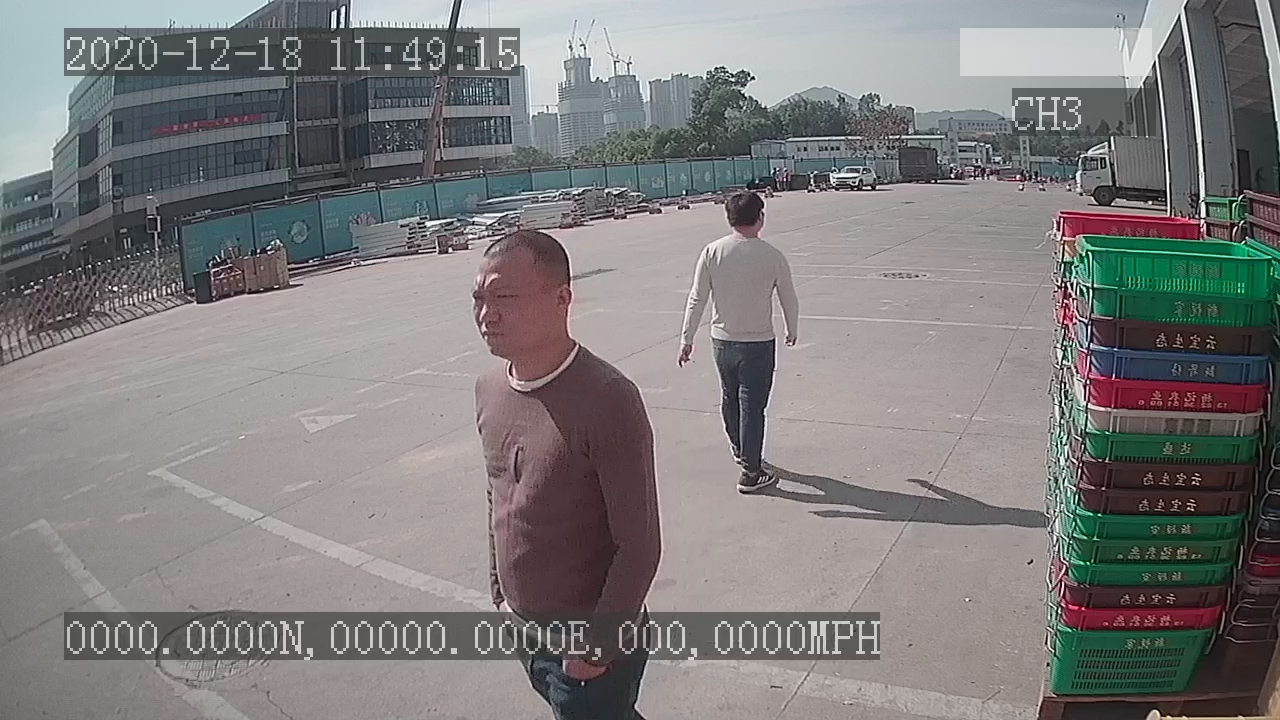person: (672, 188, 806, 499)
